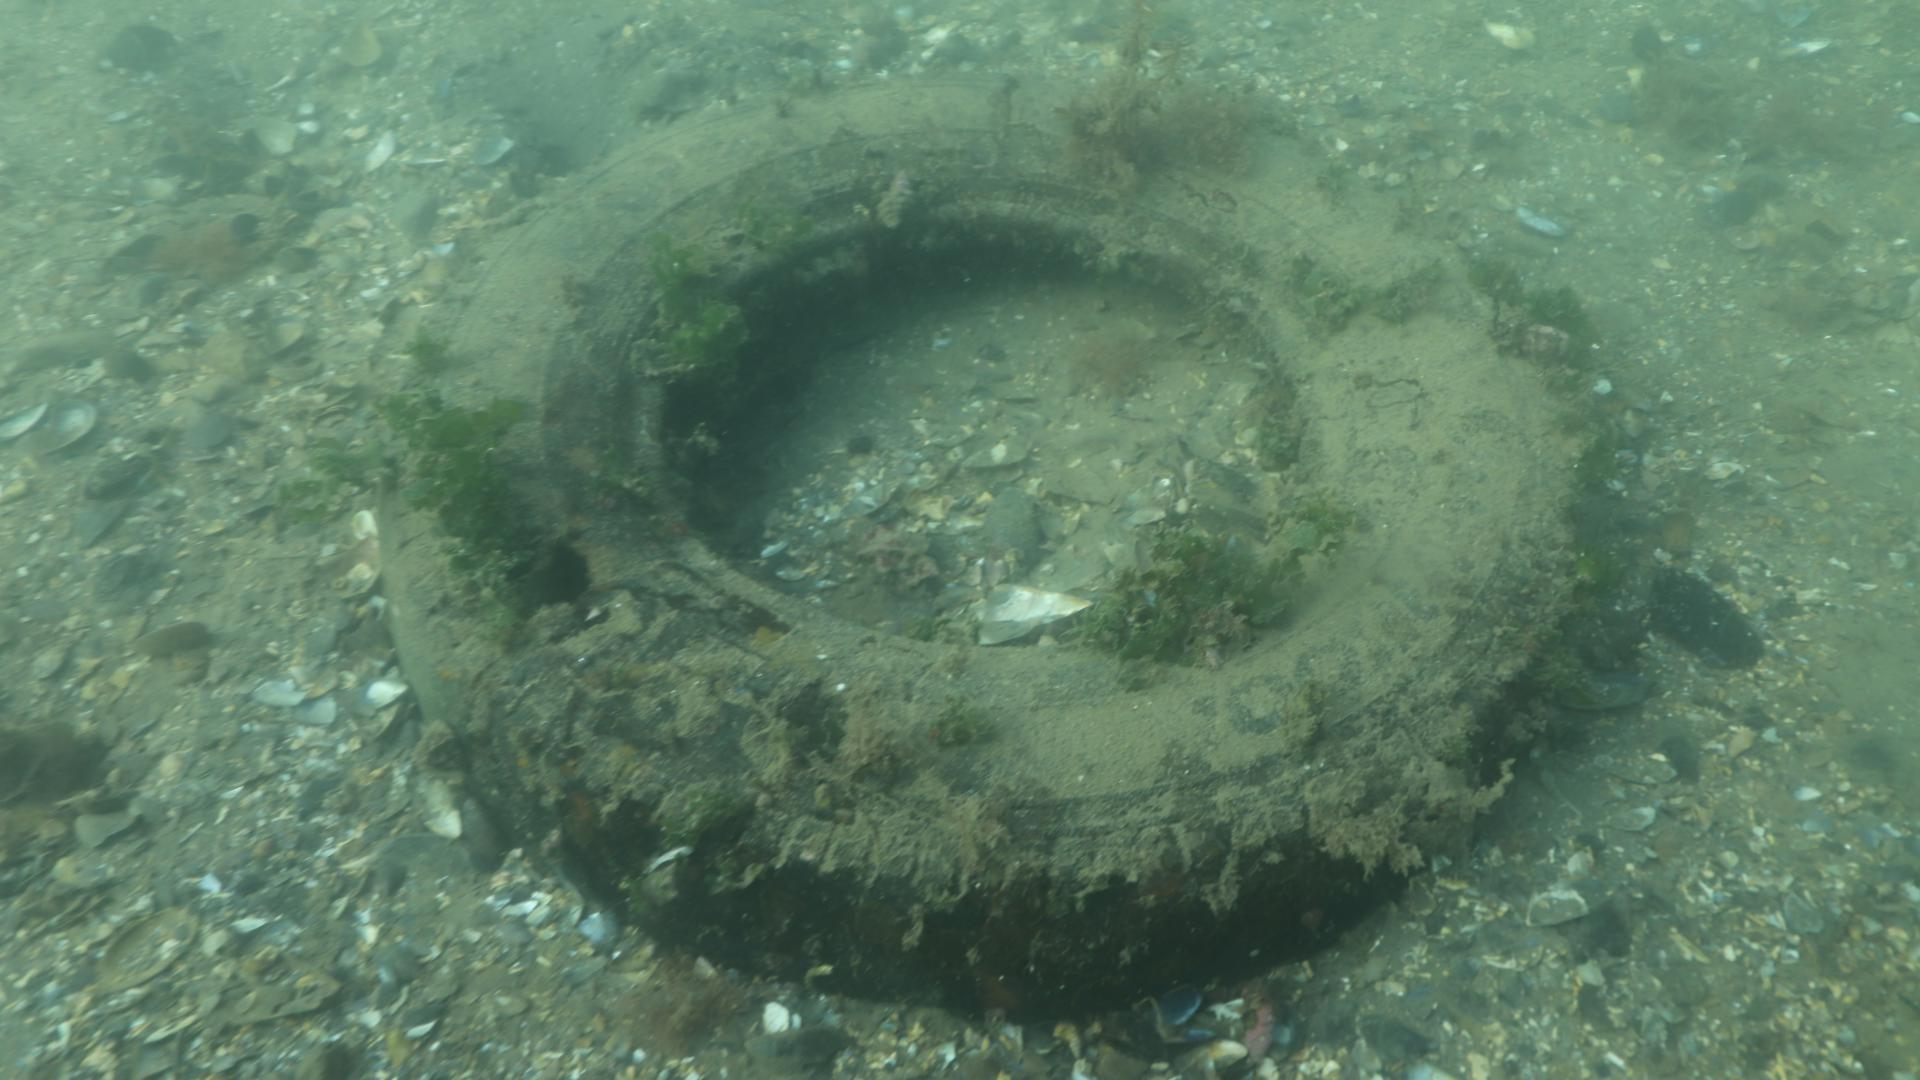tire: (381, 73, 1589, 1021)
